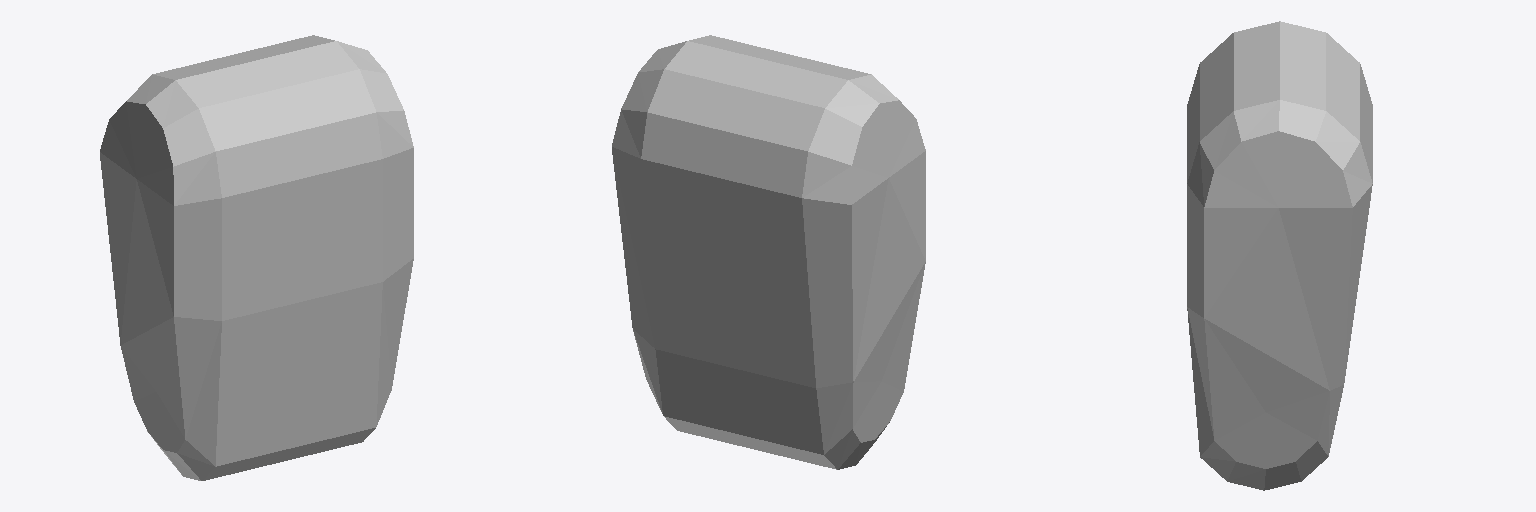
The model's file is finger1.obj.
3 views of the same model, side by side, from view 1: azimuth 30°, elevation 25°; view 2: azimuth 150°, elevation 25°; view 3: azimuth 270°, elevation 25° (orthographic).
Parts seen in each view (by area): view 1: unnamed_object1; view 2: unnamed_object1; view 3: unnamed_object1.
Boxes of the visible parts, x1=… form: unnamed_object1: x1=100, y1=35, x2=413, y2=480; unnamed_object1: x1=612, y1=35, x2=925, y2=469; unnamed_object1: x1=1187, y1=21, x2=1372, y2=490.
Size of the model in its own units: 1.94 by 3.02 by 1.3.